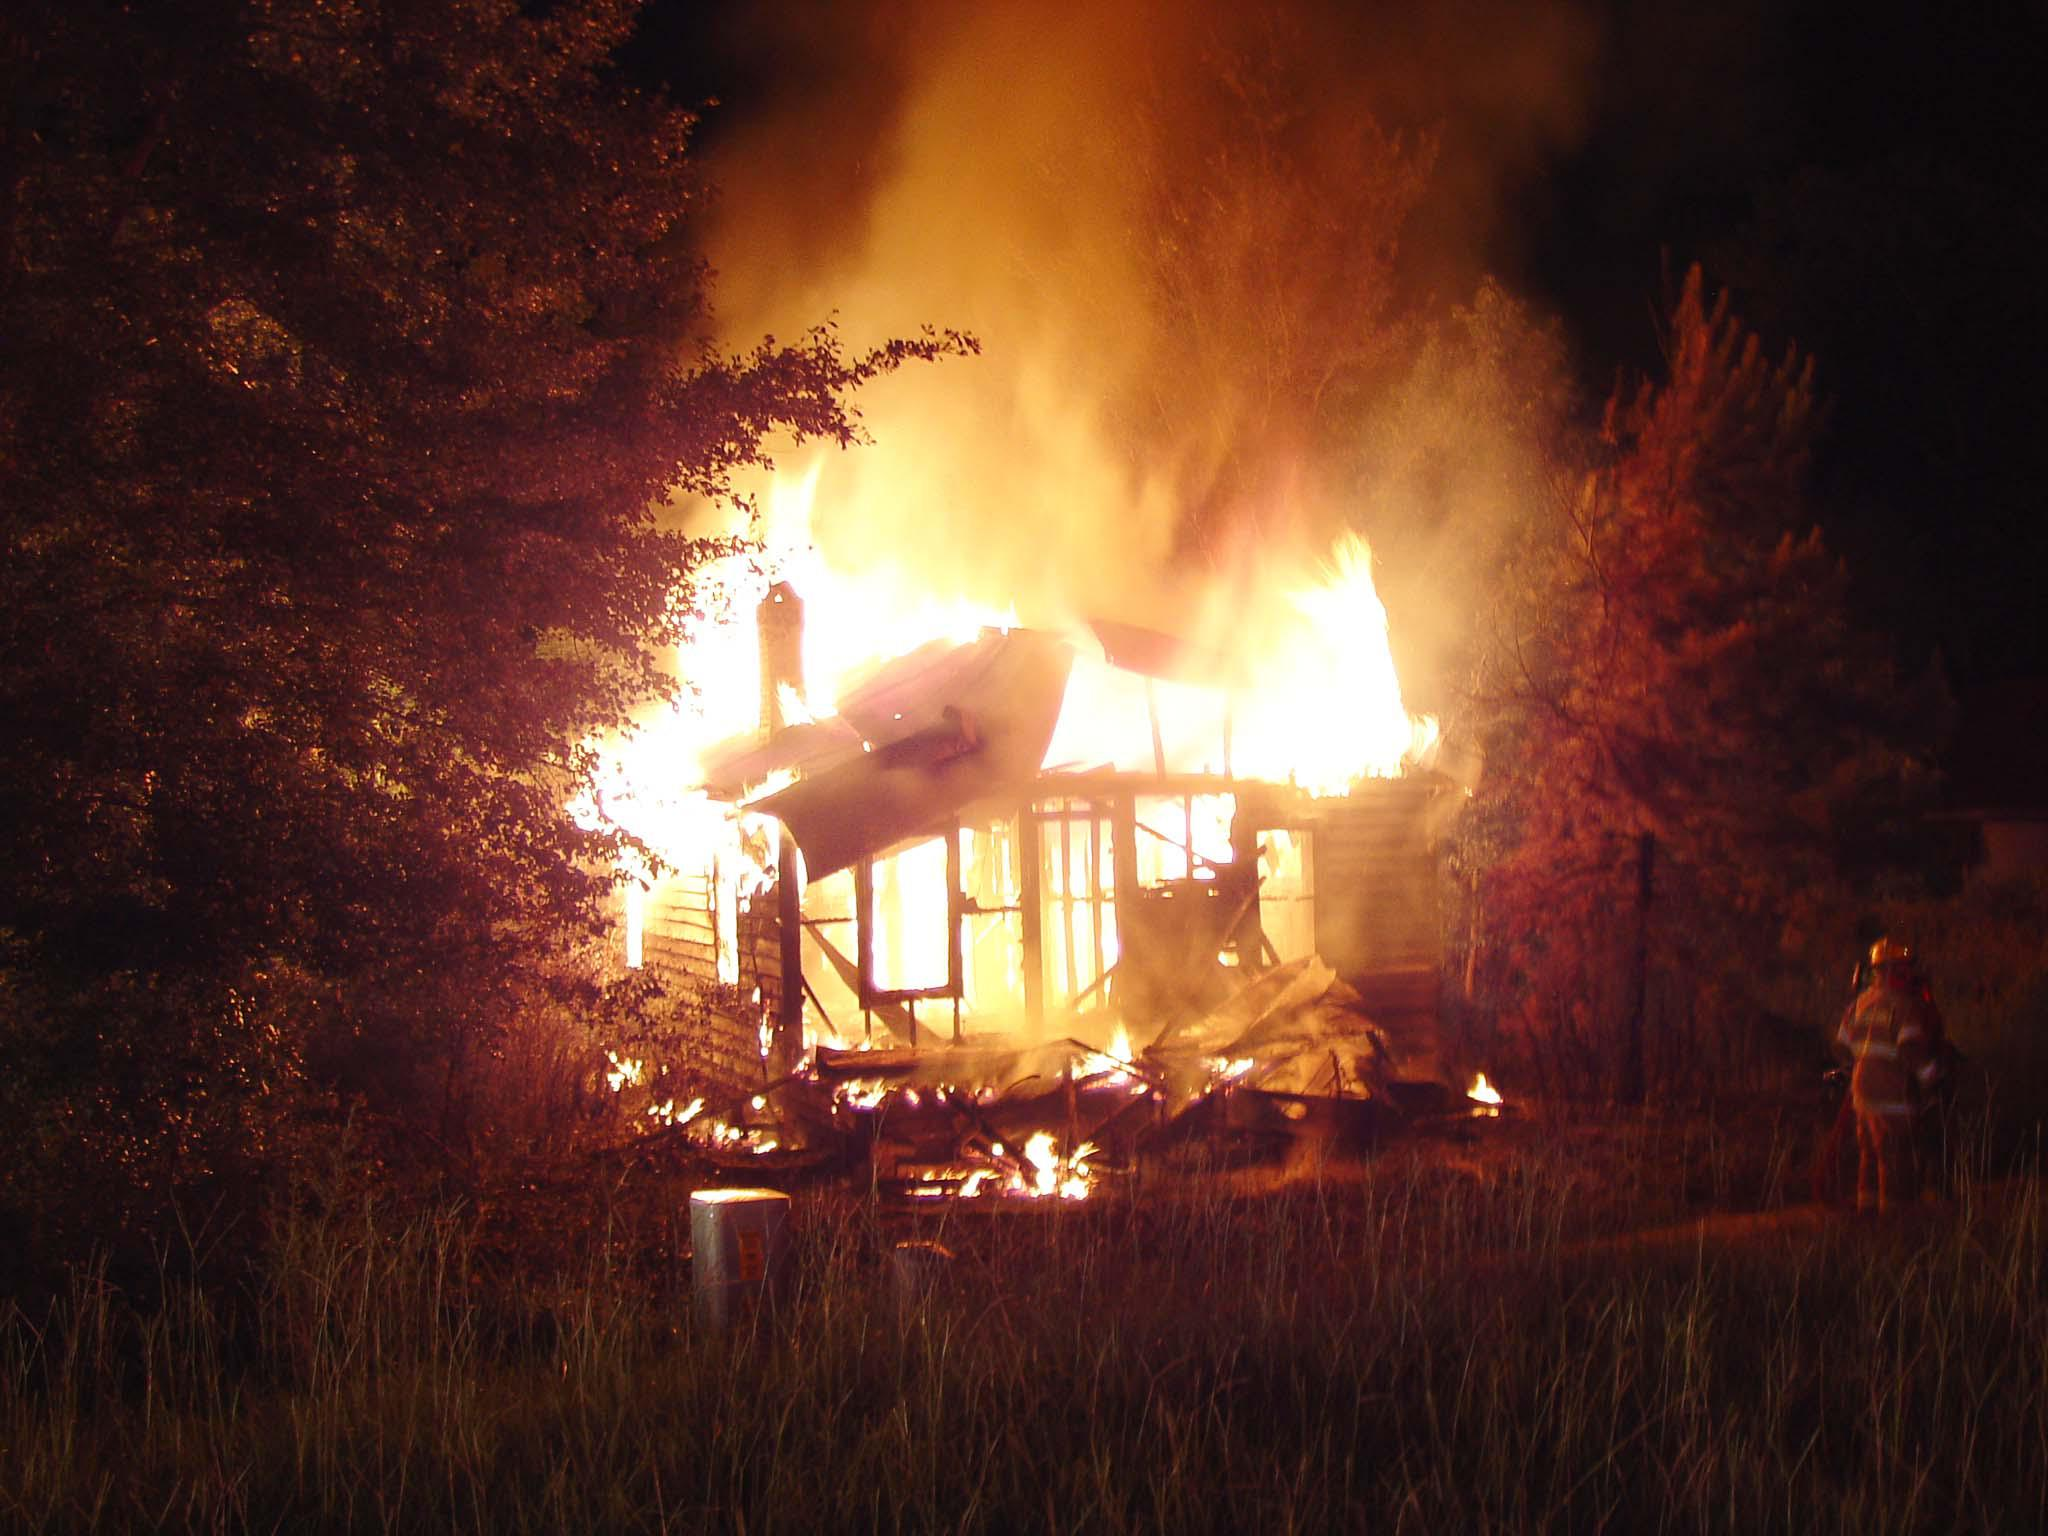fire: (595, 316, 1517, 1221)
